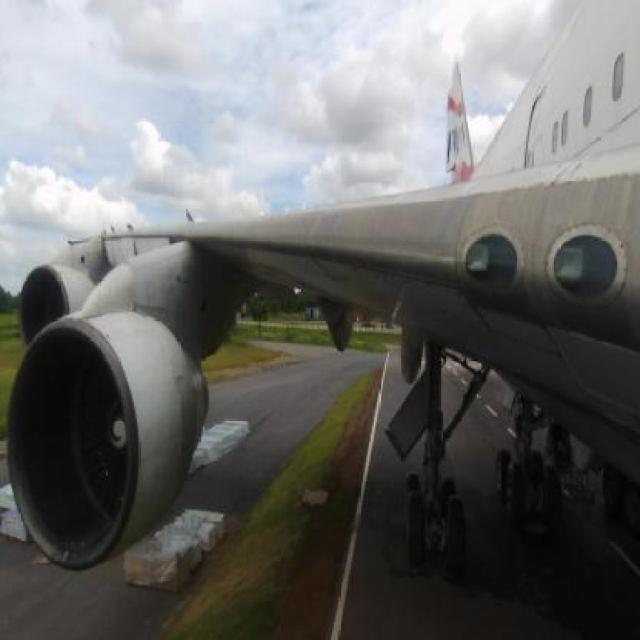Scartch: (318, 264, 462, 322)
